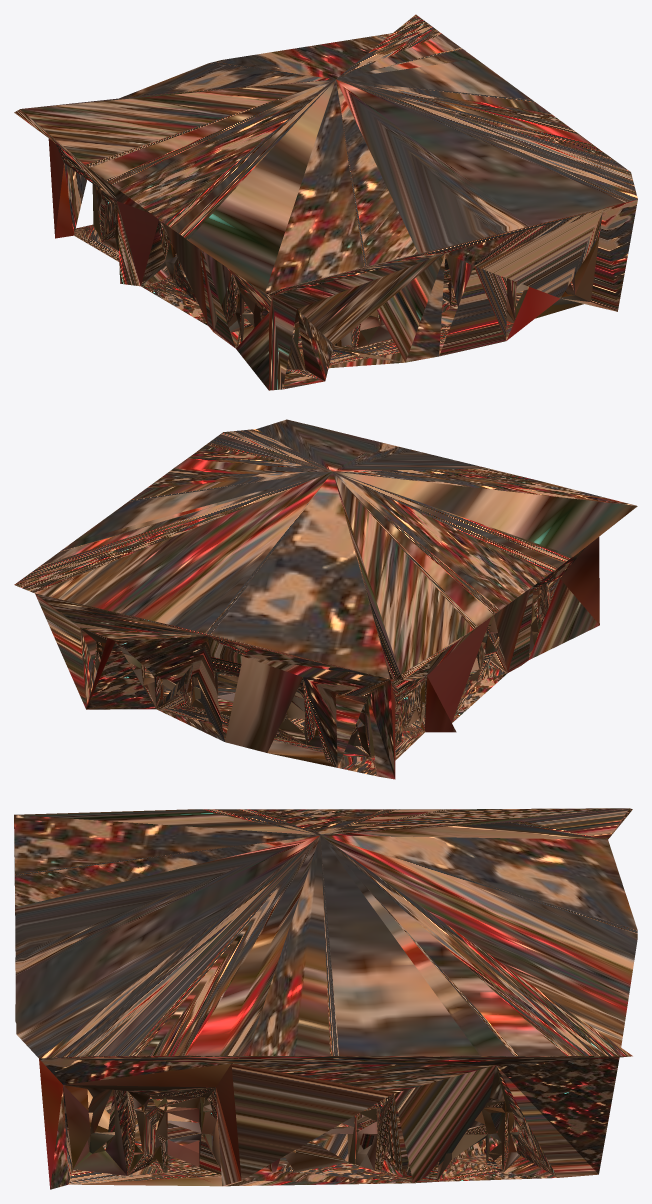
The model's file is o06_far.glb.
3 views of the same model, one above another, from view 1: azimuth 30°, elevation 25°; view 2: azimuth 150°, elevation 25°; view 3: azimuth 270°, elevation 25° (orthographic). The views are drawn at different scales.
Parts seen in each view (by area): view 1: o06_far; view 2: o06_far; view 3: o06_far.
Boxes of the visible parts, x1=… form: o06_far: x1=14, y1=14, x2=637, y2=390; o06_far: x1=14, y1=419, x2=637, y2=779; o06_far: x1=14, y1=808, x2=637, y2=1189.
Size of the model in its own units: 45.71 by 22 by 48.72.
1 material, 1 textured.
